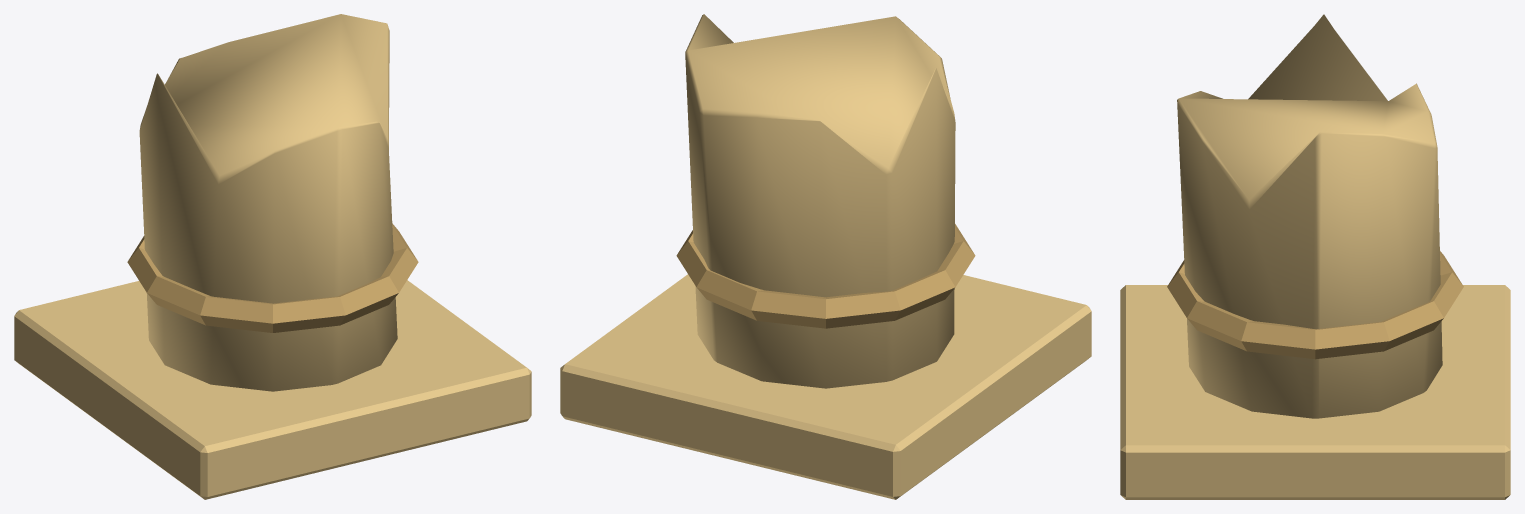
Rendered from bl_pillar_broken.gltf.
3 renders of one model, left to right at view 1: azimuth 30°, elevation 25°; view 2: azimuth 150°, elevation 25°; view 3: azimuth 270°, elevation 25°, orthographic. The views are drawn at different scales.
Visible parts, largest first — view 1: shaft, plinth, capring; view 2: shaft, plinth, capring; view 3: shaft, plinth, capring.
Part boxes in pixels (x1=…): shaft: x1=139, y1=14, x2=397, y2=391; plinth: x1=14, y1=280, x2=531, y2=499; capring: x1=127, y1=223, x2=418, y2=332; shaft: x1=685, y1=14, x2=955, y2=388; plinth: x1=560, y1=274, x2=1091, y2=499; capring: x1=676, y1=224, x2=975, y2=328; shaft: x1=1177, y1=14, x2=1442, y2=418; plinth: x1=1120, y1=285, x2=1510, y2=499; capring: x1=1167, y1=251, x2=1463, y2=359.
Bounding box in the file's own units: 2.12 × 2.1 × 2.12.
